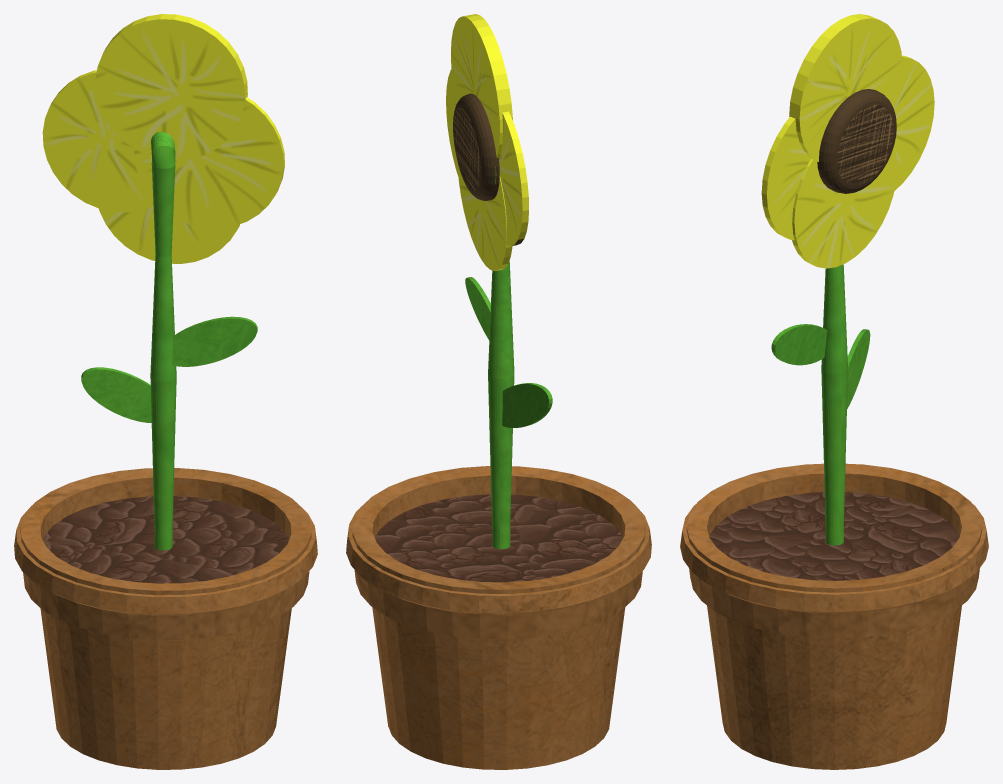
The model's file is blume1.fbx.
3 renders of one model, left to right at view 1: azimuth 30°, elevation 25°; view 2: azimuth 150°, elevation 25°; view 3: azimuth 270°, elevation 25°, orthographic.
Visible parts, largest first — view 1: Circle; view 2: Circle; view 3: Circle.
Part boxes in pixels (bbox=[...]): Circle: bbox=[14, 14, 317, 769]; Circle: bbox=[346, 14, 651, 769]; Circle: bbox=[680, 14, 988, 769].
Size of the model in its own units: 133 by 338 by 133.
